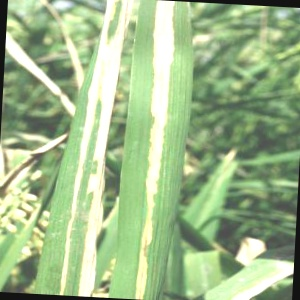Leaf_Blast: (51, 0, 127, 291), (120, 1, 191, 297)
